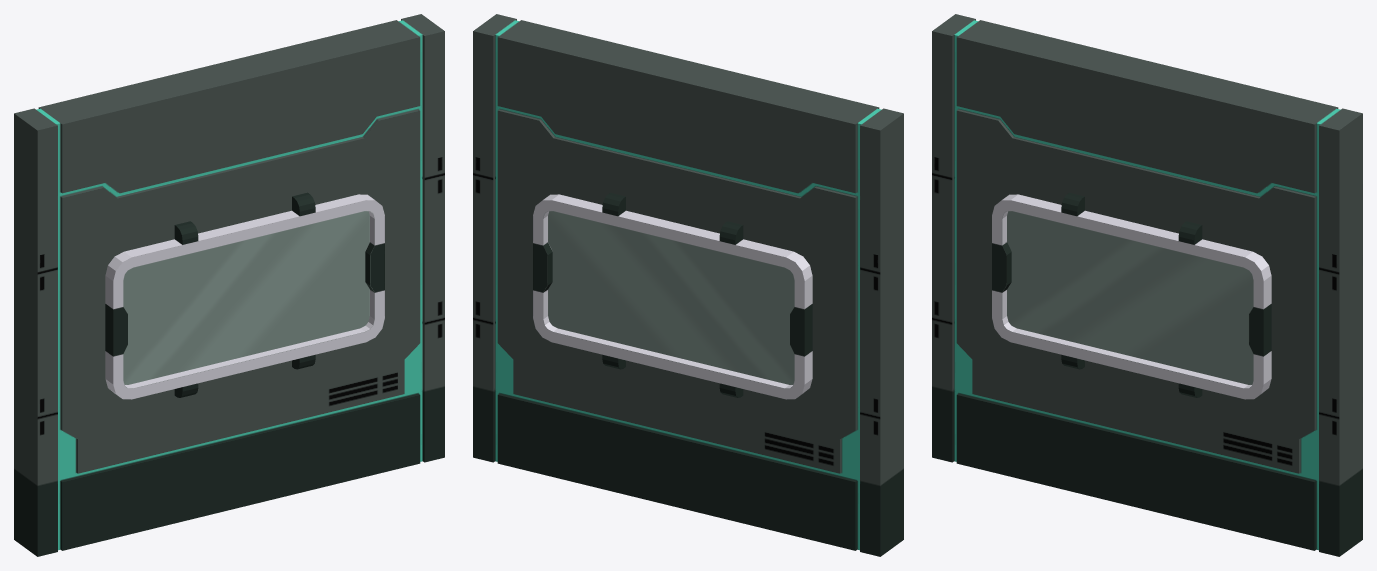
Rendered from WallWindow.fbx.
3 renders of one model, left to right at view 1: azimuth 30°, elevation 25°; view 2: azimuth 150°, elevation 25°; view 3: azimuth 330°, elevation 25°, orthographic.
Visible parts, largest first — view 1: WallWindow, Window; view 2: WallWindow, Window; view 3: WallWindow, Window.
Part boxes in pixels (left/top/right/bottom): WallWindow: left=14, top=14, right=444, bottom=556; Window: left=105, top=192, right=384, bottom=399; WallWindow: left=473, top=14, right=903, bottom=556; Window: left=533, top=192, right=812, bottom=399; WallWindow: left=932, top=14, right=1362, bottom=556; Window: left=992, top=192, right=1271, bottom=399.
Size of the model in its own units: 300 by 300 by 50.
